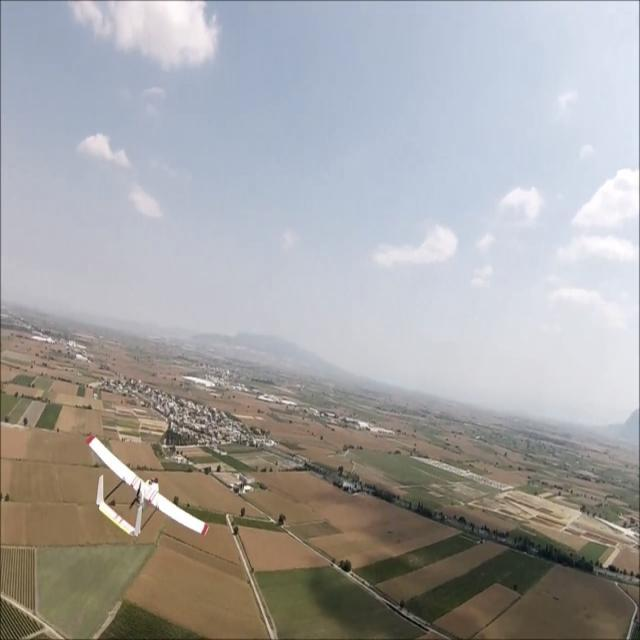iha: (117, 463, 178, 508)
